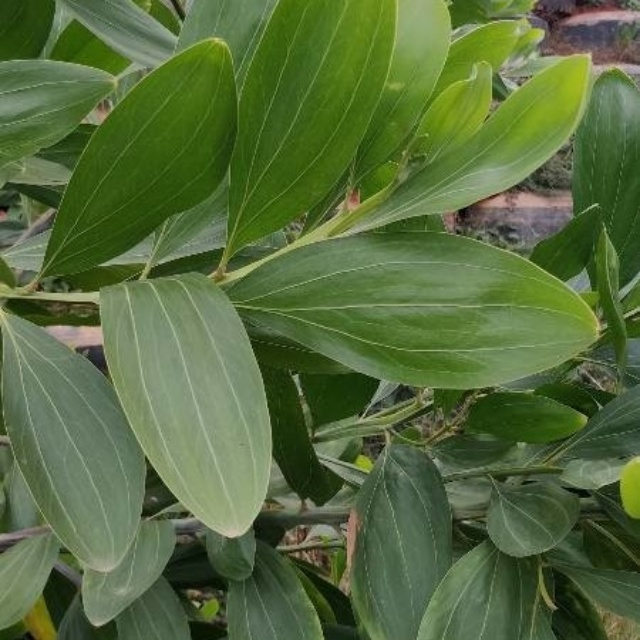obstacle: (61, 57, 556, 539)
